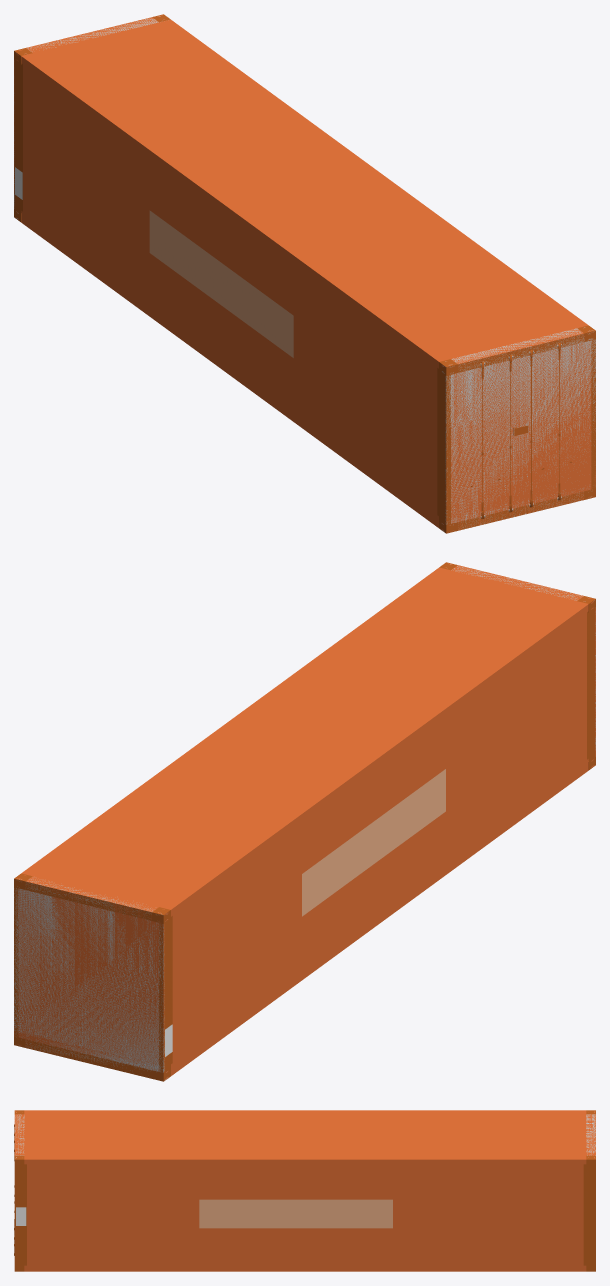
Rendered from containers_40_beamng.dae.
The picture shows the model from 3 angles, top to bottom: view 1: azimuth 30°, elevation 25°; view 2: azimuth 150°, elevation 25°; view 3: azimuth 270°, elevation 25°; orthographic projection. The views are drawn at different scales.
Parts seen in each view (by area): view 1: containers_40_beamng_a40, Colmesh_containers_40_beamng-1, containers_40_beamng_a1500, containers_40_beamng_a150, containers_40_beamng_a600; view 2: containers_40_beamng_a40, Colmesh_containers_40_beamng-1, containers_40_beamng_a150, containers_40_beamng_a1500, containers_40_beamng_a600; view 3: containers_40_beamng_a40, containers_40_beamng_a1500, containers_40_beamng_a600, Colmesh_containers_40_beamng-1, containers_40_beamng_a150.
Part boxes in pixels (x1,y1,x2,y2): containers_40_beamng_a40: (14, 15, 595, 532); Colmesh_containers_40_beamng-1: (14, 16, 595, 530); containers_40_beamng_a1500: (14, 14, 595, 533); containers_40_beamng_a150: (446, 331, 595, 533); containers_40_beamng_a600: (14, 16, 595, 532); containers_40_beamng_a40: (14, 563, 595, 1079); Colmesh_containers_40_beamng-1: (14, 564, 595, 1080); containers_40_beamng_a150: (14, 879, 163, 1081); containers_40_beamng_a1500: (14, 562, 595, 1081); containers_40_beamng_a600: (14, 564, 595, 1080); containers_40_beamng_a40: (14, 1110, 595, 1271); containers_40_beamng_a1500: (14, 1110, 595, 1271); containers_40_beamng_a600: (14, 1111, 595, 1271); Colmesh_containers_40_beamng-1: (15, 1114, 595, 1157); containers_40_beamng_a150: (14, 1159, 595, 1271).
Bounding box in the file's own units: 2.48 × 12.21 × 2.59.
